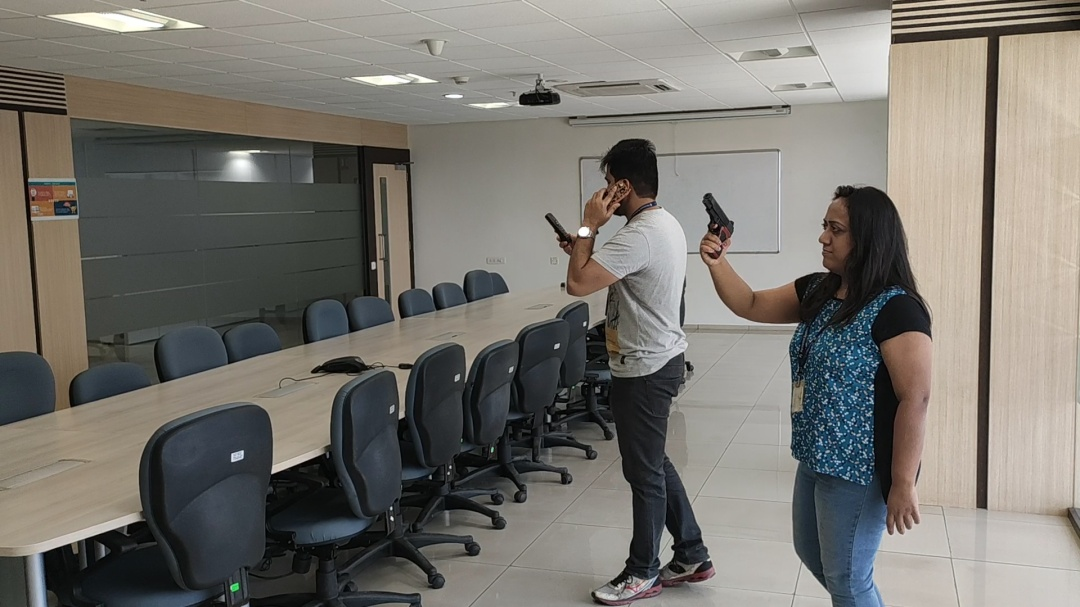gun: (701, 192, 736, 260)
